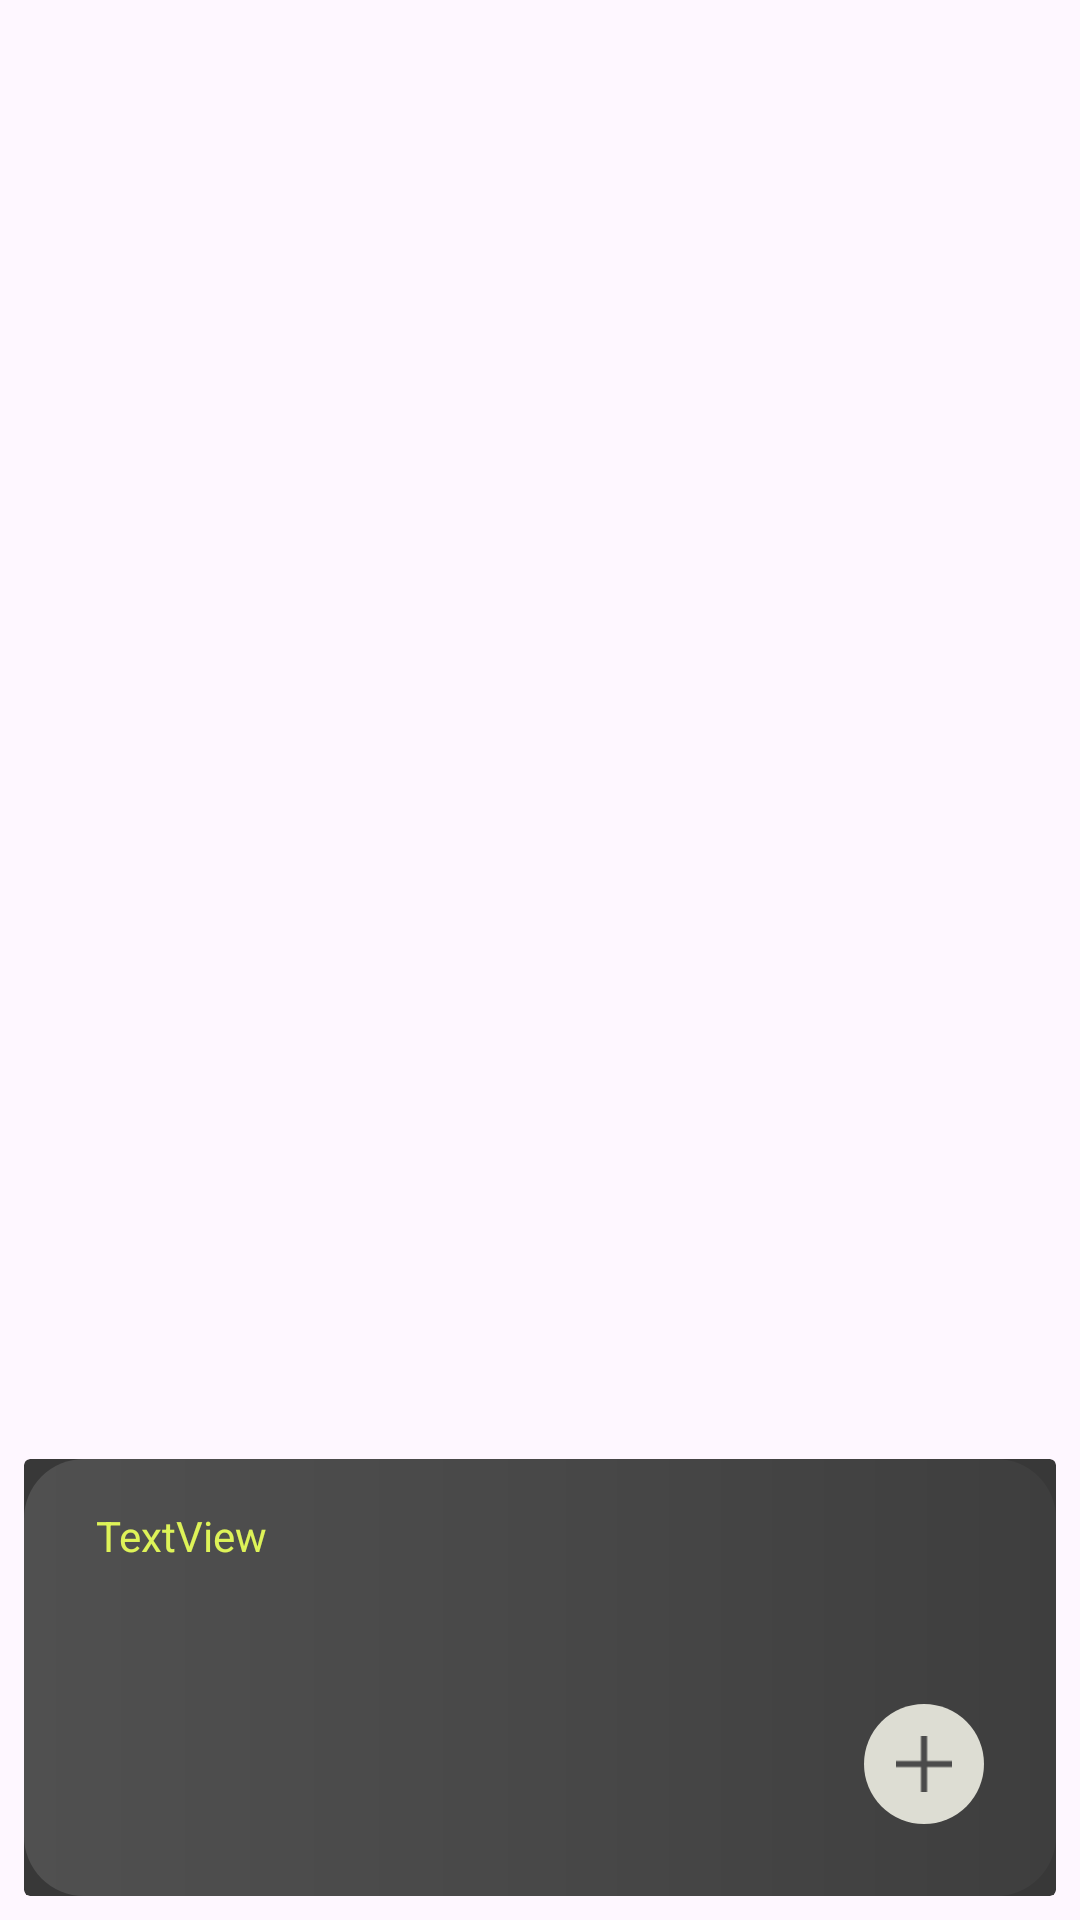

Where to tap for icons on this 1080px×1920px app screen, as (x=x, y=y):
plus sign circle: (x=924, y=1764)
